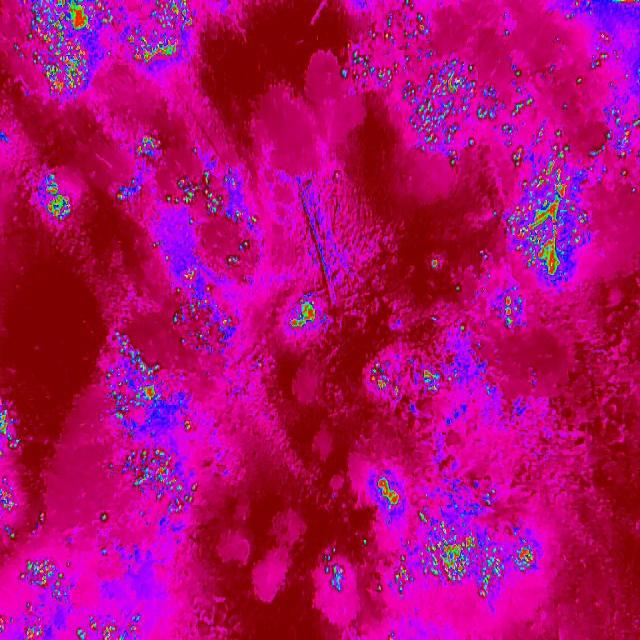fire: (492, 0, 598, 284), (321, 468, 537, 600), (337, 0, 497, 174), (109, 127, 274, 275), (98, 332, 206, 527), (0, 542, 141, 640), (22, 0, 118, 104), (596, 0, 640, 198), (426, 248, 520, 329), (167, 264, 236, 362), (121, 0, 192, 70), (368, 350, 451, 405), (0, 401, 31, 543), (36, 166, 78, 238), (282, 284, 326, 342)
